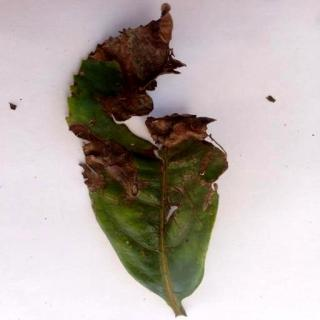Algal Leaf: (70, 3, 229, 320)
